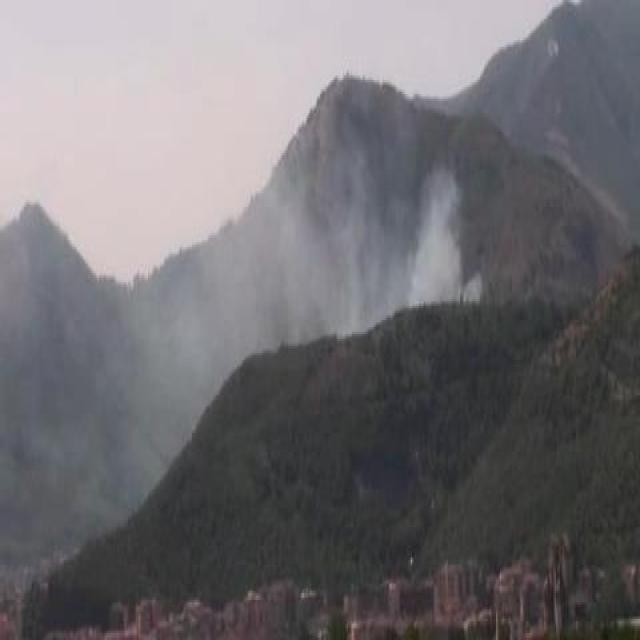Smoke: (284, 157, 488, 321), (11, 293, 190, 455)
